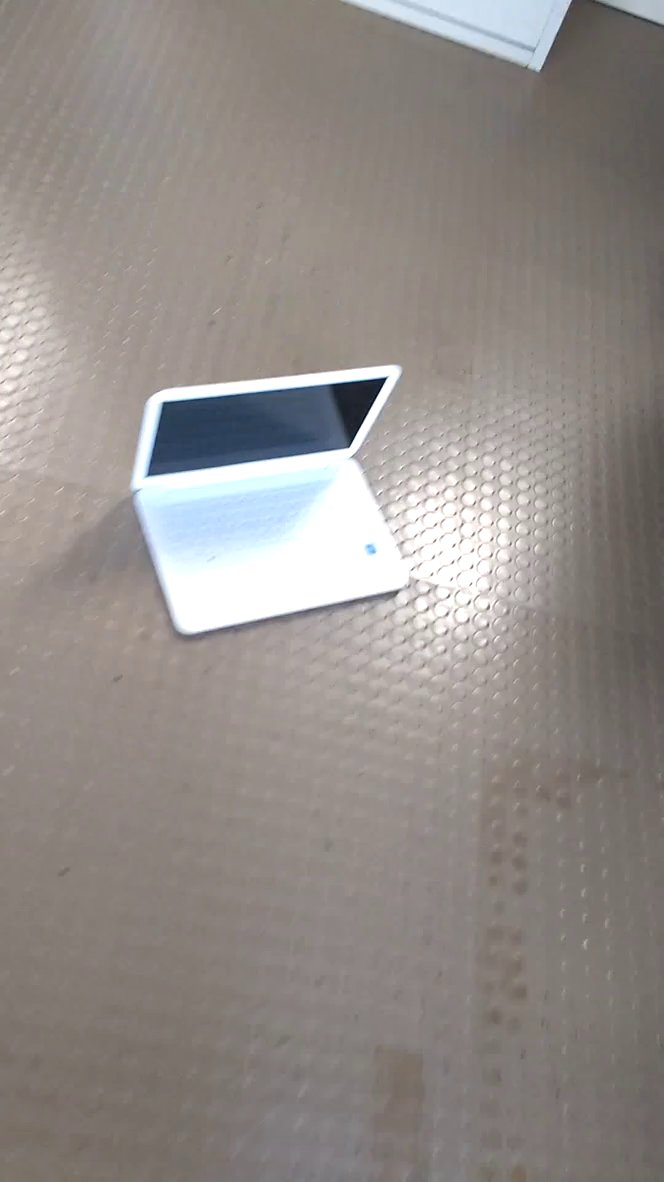laptop: (126, 350, 416, 650)
